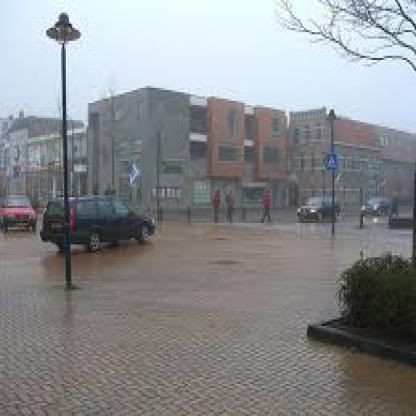car: (40, 163, 168, 260), (286, 168, 344, 232), (2, 173, 40, 249), (350, 192, 403, 227)
